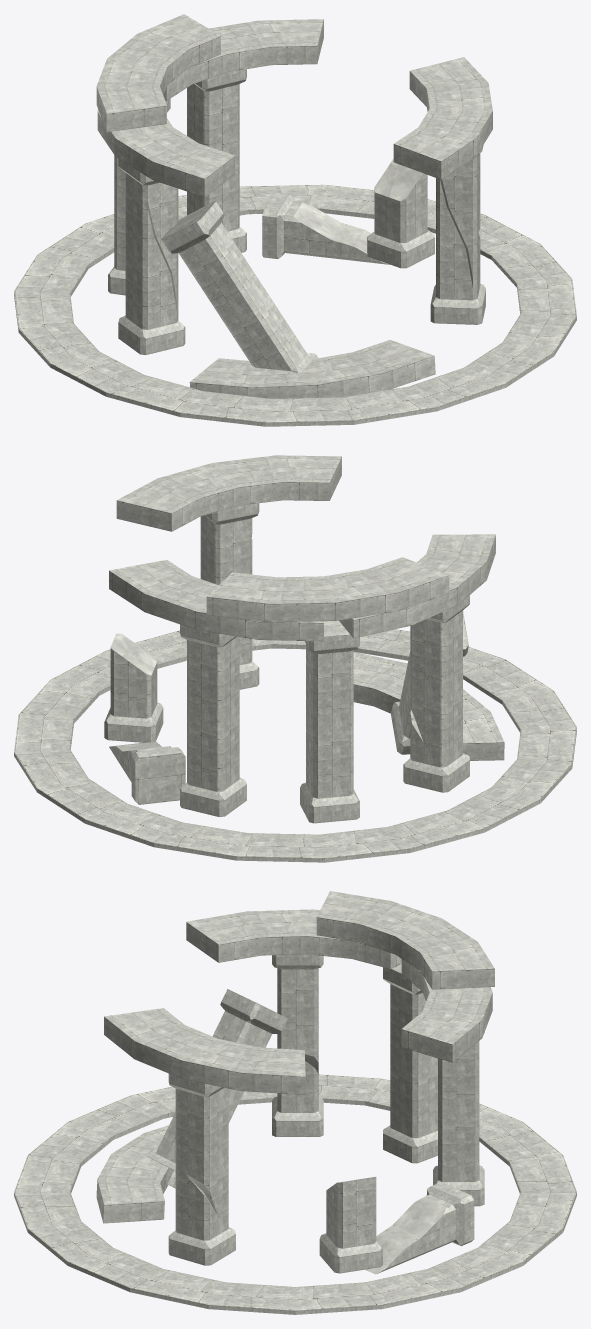
Rendered from stonehenge-01.fbx.
3 views of the same model, one above another, from view 1: azimuth 30°, elevation 25°; view 2: azimuth 150°, elevation 25°; view 3: azimuth 270°, elevation 25° (orthographic).
Parts seen in each view (by area): view 1: Cylinder.038; view 2: Cylinder.038; view 3: Cylinder.038.
Part boxes in pixels (x1,y1,x2,y2): Cylinder.038: (14,14,576,426); Cylinder.038: (14,455,576,862); Cylinder.038: (14,891,576,1314).
Size of the model in its own units: 9.2 by 4.58 by 9.2.
